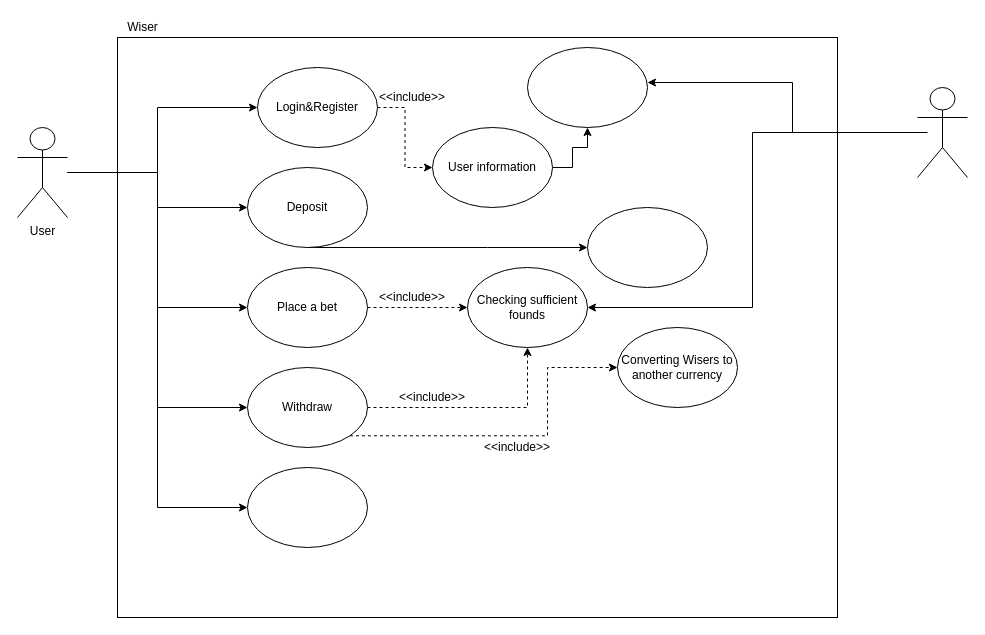
Image size: 985x635. Some labels were removed from this diagram. Here are the shapes that lost their labels. From the top down, the centre of each, then its label:
At pixel 587 87: "Validation".
At pixel 942 132: "Server".
At pixel 647 247: "Converting any currency to Wiser".
At pixel 307 507: "Logout".
